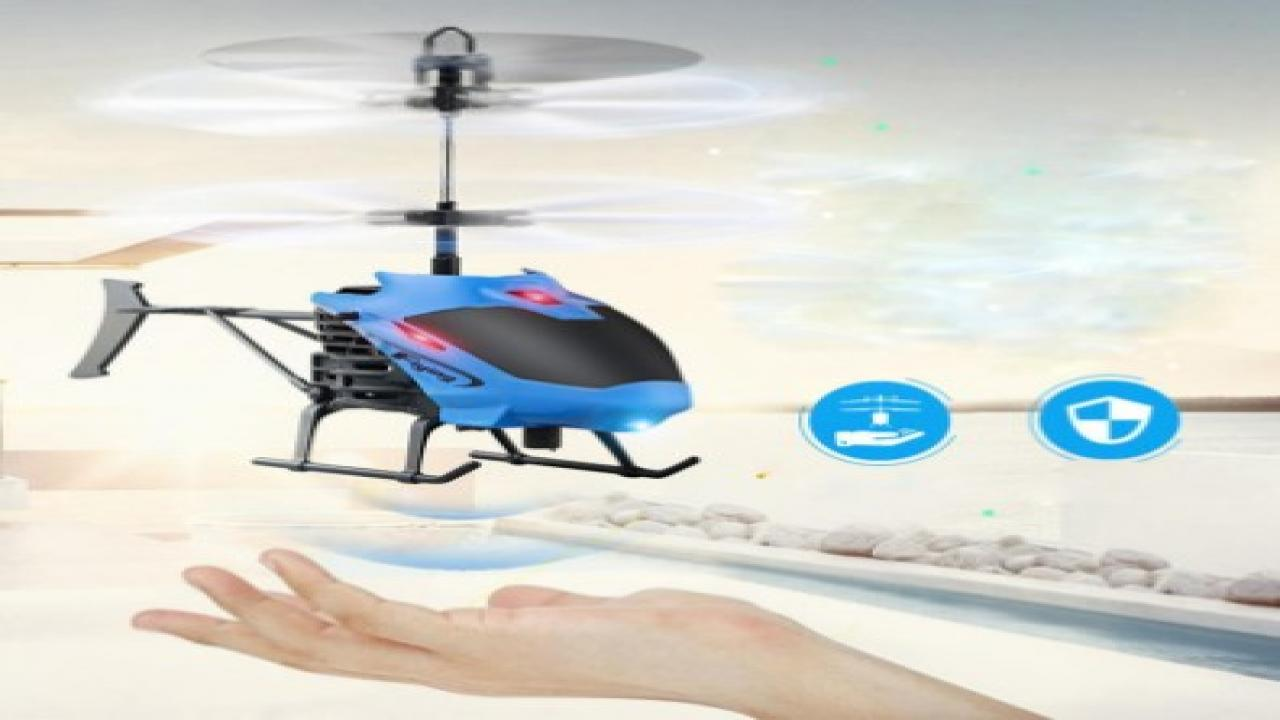Helicopter: (19, 16, 792, 501)
